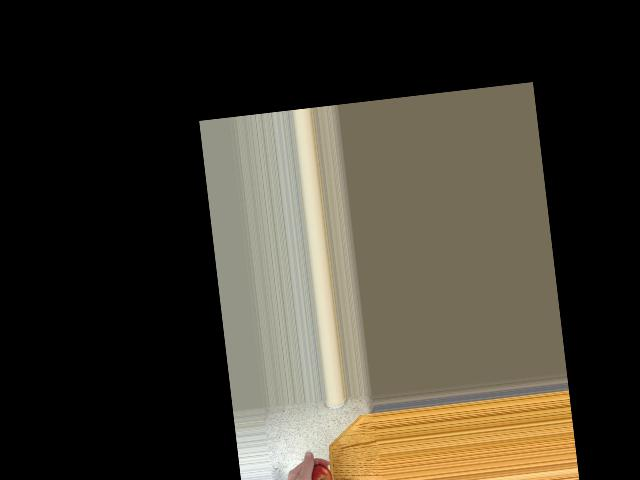apple: (301, 463, 333, 480)
